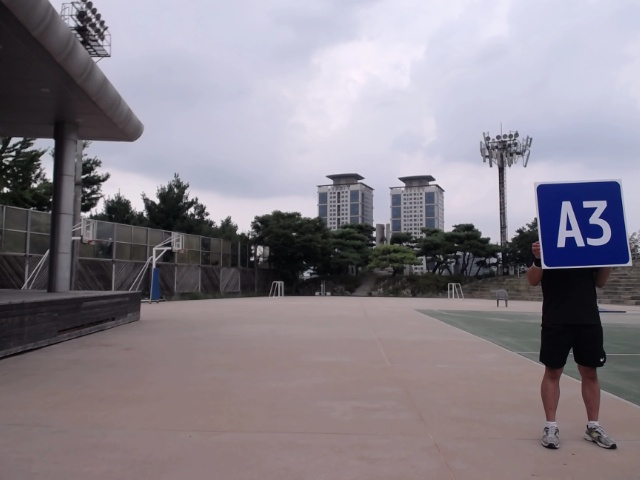delivery_a3: (535, 179, 632, 269)
